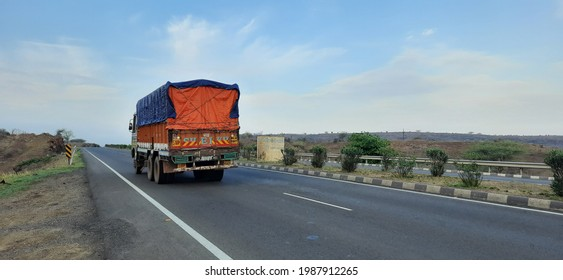truck: (130, 81, 239, 184)
